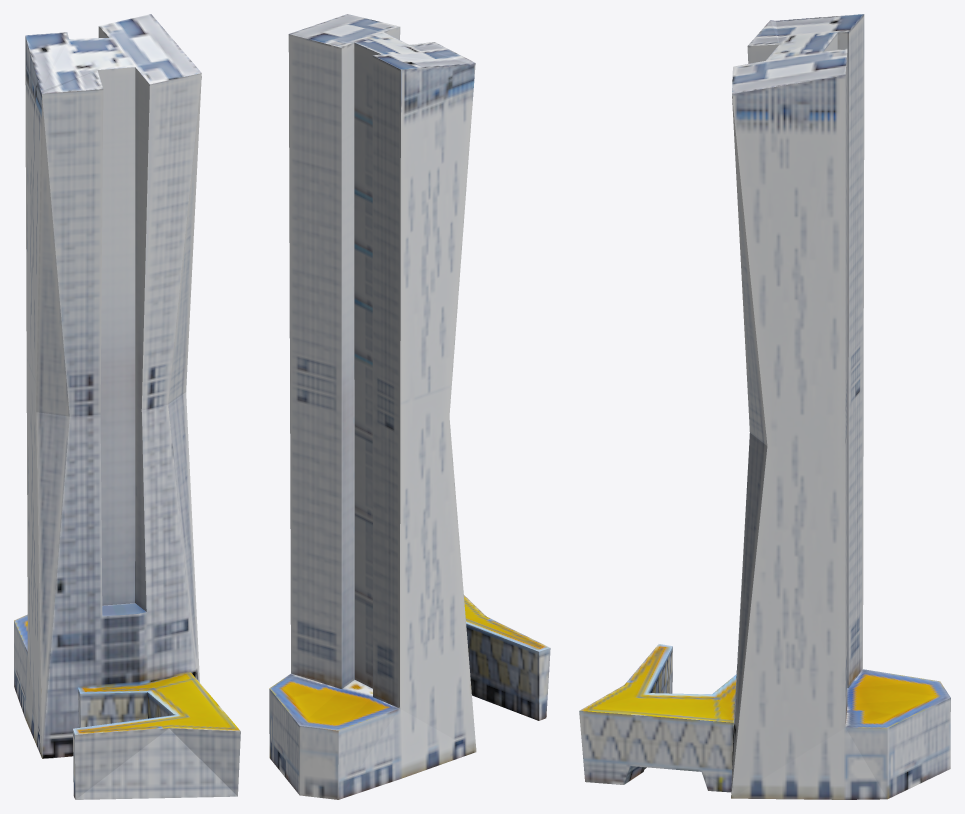
File: 409_RES.glb
3 renders of one model, left to right at view 1: azimuth 30°, elevation 25°; view 2: azimuth 150°, elevation 25°; view 3: azimuth 270°, elevation 25°, orthographic. The views are drawn at different scales.
Visible parts, largest first — view 1: 4.09_RES.001; view 2: 4.09_RES.001; view 3: 4.09_RES.001.
Part boxes in pixels (x1,y1,x2,y2): 4.09_RES.001: (14, 14, 240, 799); 4.09_RES.001: (269, 14, 550, 799); 4.09_RES.001: (579, 14, 950, 799).
Bounding box in the file's own units: 45.69 × 182 × 84.33.
Materials: 1 (1 with a texture image).
